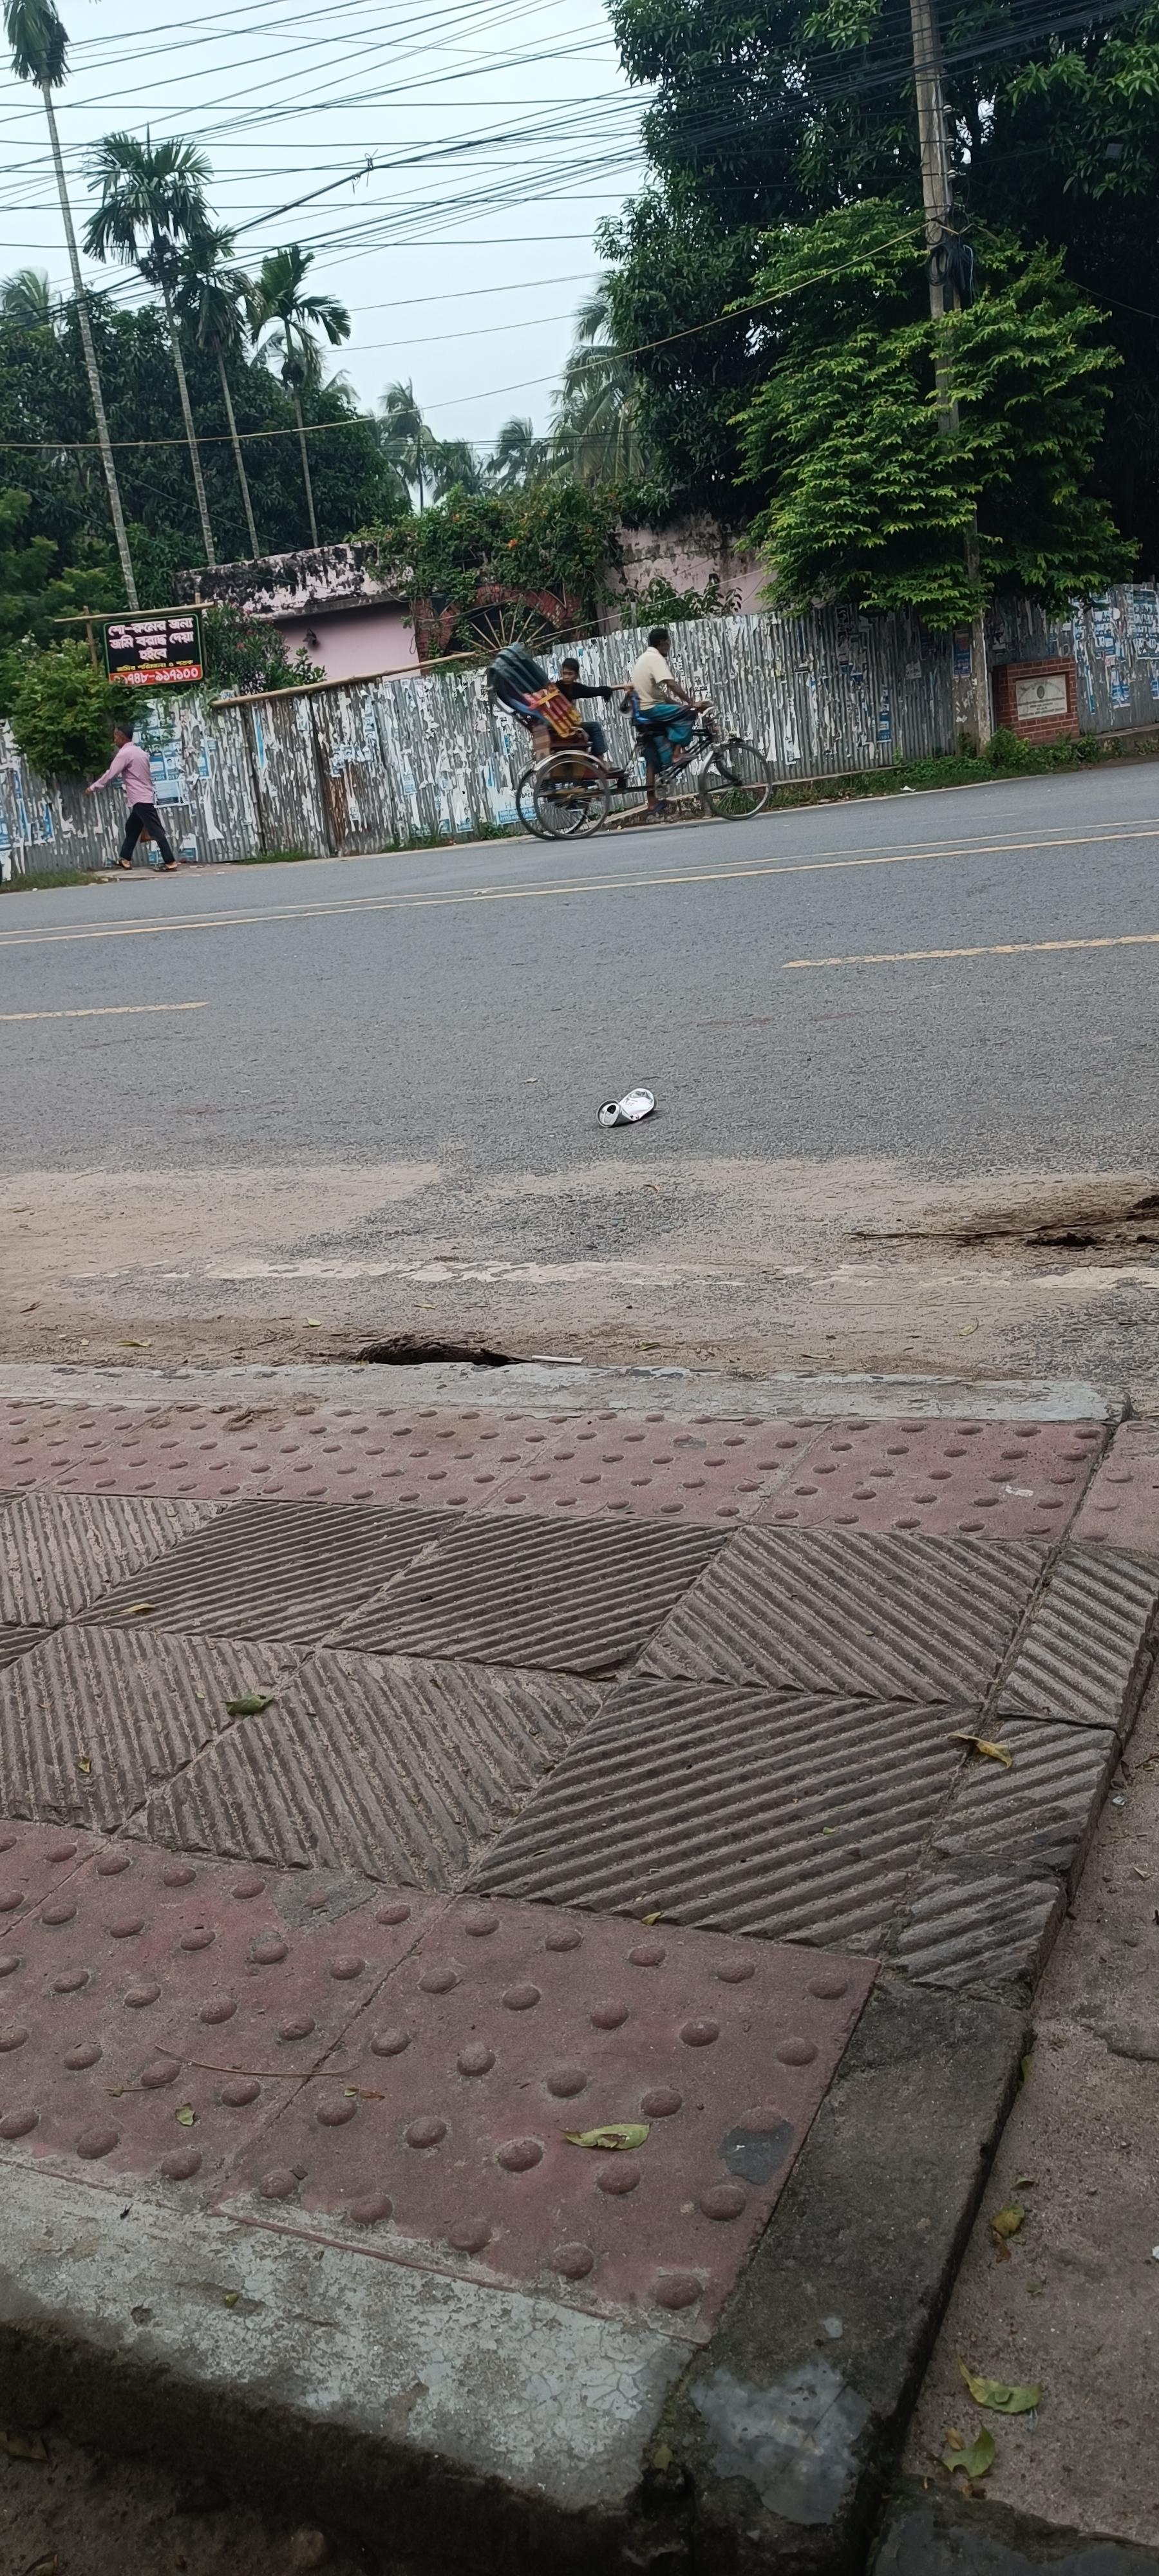Dog: (598, 1084, 655, 1124)
Garbage-bin: (630, 626, 714, 818), (84, 721, 181, 871), (552, 655, 634, 762)
Motorcycle: (350, 1327, 530, 1368)
Pothole: (3, 1354, 1156, 2568)
